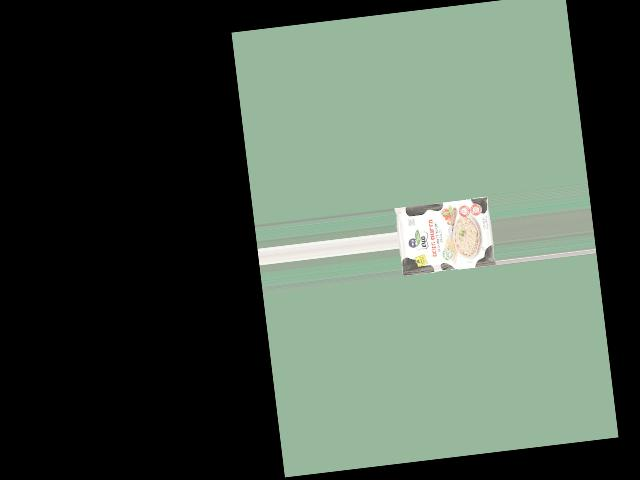cheese: (400, 185, 491, 277)
